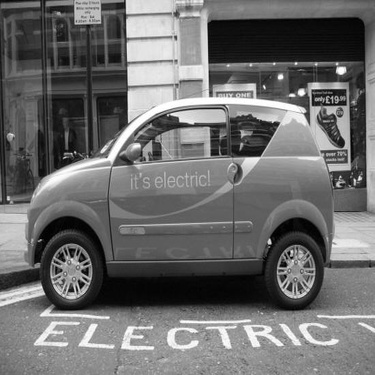car: (33, 98, 333, 317)
